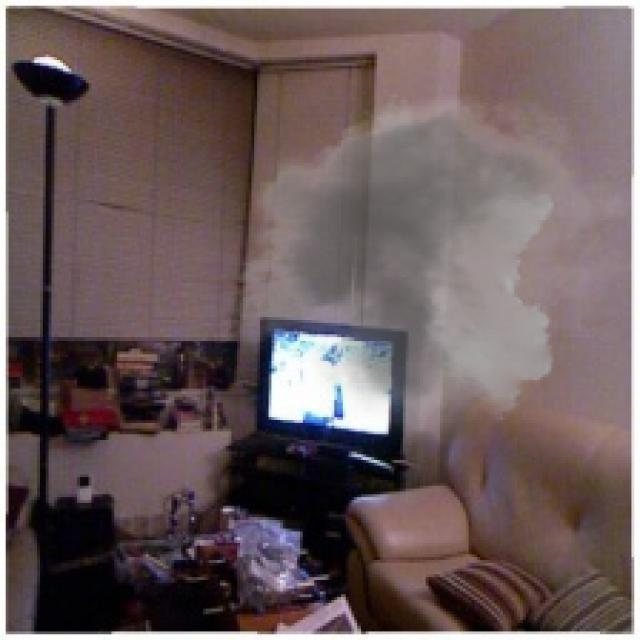Smoke: (214, 80, 637, 437)
